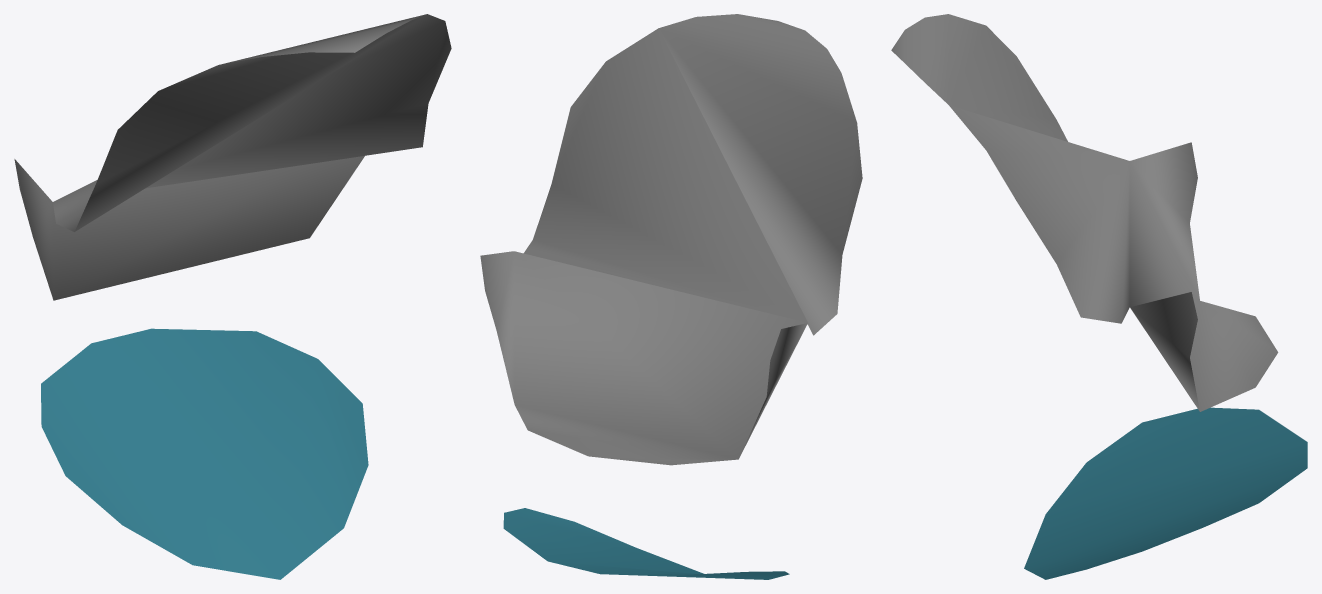
File: ma_hom_visage_interface.max.fbx
3 renders of one model, left to right at view 1: azimuth 30°, elevation 25°; view 2: azimuth 150°, elevation 25°; view 3: azimuth 270°, elevation 25°, orthographic. The views are drawn at different scales.
Parts seen in each view (by area): view 1: Shape01, FY_HOM_interfaces_new; view 2: Shape01, FY_HOM_interfaces_new; view 3: Shape01, FY_HOM_interfaces_new.
Boxes of the visible parts, x1=… form: Shape01: x1=14, y1=14, x2=451, y2=300; FY_HOM_interfaces_new: x1=41, y1=328, x2=368, y2=579; Shape01: x1=480, y1=14, x2=862, y2=465; FY_HOM_interfaces_new: x1=503, y1=508, x2=789, y2=579; Shape01: x1=891, y1=14, x2=1278, y2=411; FY_HOM_interfaces_new: x1=1024, y1=407, x2=1307, y2=579.
Bounding box in the file's own units: 0.1433 × 0.2303 × 0.1665.
